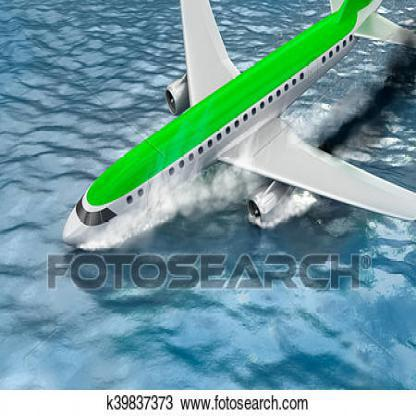CIV_Plane: (53, 0, 415, 258)
